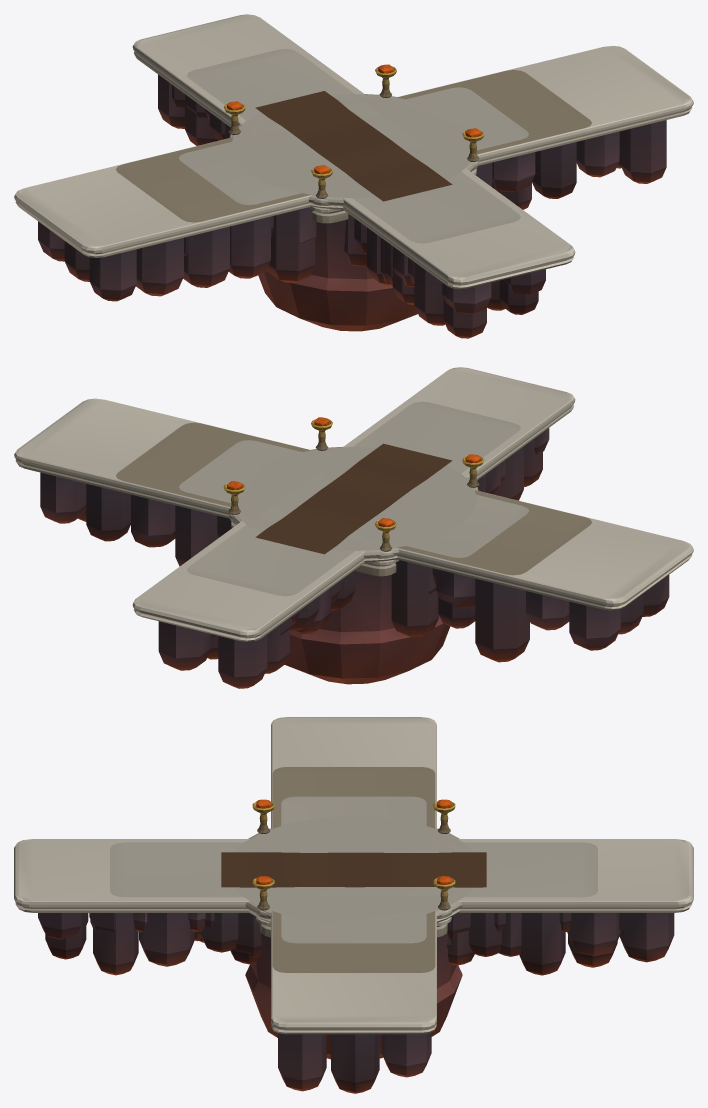
File: volcano-2-D0cm9hS-.glb
The picture shows the model from 3 angles, top to bottom: view 1: azimuth 30°, elevation 25°; view 2: azimuth 150°, elevation 25°; view 3: azimuth 270°, elevation 25°; orthographic projection. The views are drawn at different scales.
Visible parts, largest first — view 1: block_44x2x10#0, block_9x2x41#0, disc_16x1.5#1, block_30x2x10_column#1, block_8x2x30_grate#0, beam_5x1.5x16_plank#1, block_21.5x2x9#0, block_8x2x40_grate#0, block_8x2x12.5#0, pad_12x2x12#1; view 2: block_44x2x10#0, block_9x2x41#0, block_30x2x10_column#1, disc_16x1.5#1, block_8x2x30_grate#0, beam_5x1.5x16_plank#1, block_21.5x2x9#0, block_8x2x12.5#0, pad_12x2x12#1, block_8x2x40_grate#0; view 3: block_9x2x41#0, block_44x2x10#0, block_8x2x30_grate#0, disc_16x1.5#1, block_30x2x10_column#1, beam_5x1.5x16_plank#1, block_21.5x2x9#0, block_8x2x12.5#0, block_8x2x40_grate#0, pad_12x2x12#1, block_8x2x16#1.
Part boxes in pixels (bbox=[...]): block_44x2x10#0: bbox=[14, 46, 693, 301]; block_9x2x41#0: bbox=[132, 14, 575, 325]; disc_16x1.5#1: bbox=[229, 94, 479, 331]; block_30x2x10_column#1: bbox=[116, 70, 591, 287]; block_8x2x30_grate#0: bbox=[187, 49, 520, 284]; beam_5x1.5x16_plank#1: bbox=[255, 91, 452, 201]; block_21.5x2x9#0: bbox=[179, 87, 528, 237]; block_8x2x40_grate#0: bbox=[172, 85, 538, 338]; block_8x2x12.5#0: bbox=[258, 100, 449, 191]; pad_12x2x12#1: bbox=[224, 64, 484, 223]; block_44x2x10#0: bbox=[14, 398, 693, 650]; block_9x2x41#0: bbox=[132, 367, 575, 688]; block_30x2x10_column#1: bbox=[116, 422, 591, 662]; disc_16x1.5#1: bbox=[228, 447, 478, 684]; block_8x2x30_grate#0: bbox=[187, 401, 520, 633]; beam_5x1.5x16_plank#1: bbox=[255, 443, 452, 554]; block_21.5x2x9#0: bbox=[179, 440, 528, 584]; block_8x2x12.5#0: bbox=[258, 453, 449, 544]; pad_12x2x12#1: bbox=[223, 417, 484, 576]; block_8x2x40_grate#0: bbox=[207, 439, 542, 673]; block_9x2x41#0: bbox=[14, 839, 693, 975]; block_44x2x10#0: bbox=[271, 717, 436, 1093]; block_8x2x30_grate#0: bbox=[110, 842, 597, 965]; disc_16x1.5#1: bbox=[234, 816, 473, 1059]; block_30x2x10_column#1: bbox=[272, 767, 435, 972]; beam_5x1.5x16_plank#1: bbox=[221, 852, 486, 887]; block_21.5x2x9#0: bbox=[281, 796, 426, 943]; block_8x2x12.5#0: bbox=[254, 843, 453, 896]; block_8x2x40_grate#0: bbox=[45, 913, 623, 967]; pad_12x2x12#1: bbox=[252, 799, 455, 937]; block_8x2x16#1: bbox=[235, 913, 470, 957].
Bounding box in the file's own units: 44 × 13.81 × 41.
